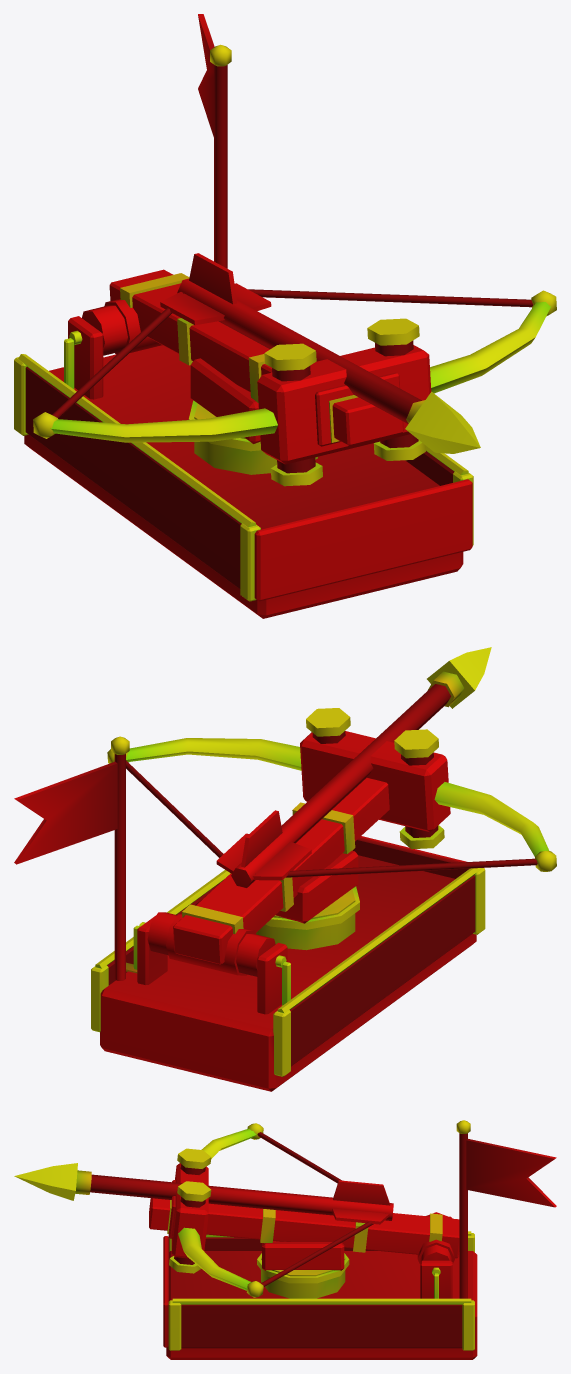
The model's file is Ballista_LOD1.glb.
3 views of the same model, one above another, from view 1: azimuth 30°, elevation 25°; view 2: azimuth 150°, elevation 25°; view 3: azimuth 270°, elevation 25° (orthographic). The views are drawn at different scales.
Parts seen in each view (by area): view 1: Ballista_LOD1; view 2: Ballista_LOD1; view 3: Ballista_LOD1.
Boxes of the visible parts, <box> form: Ballista_LOD1: <box>14,14,556,618</box>; Ballista_LOD1: <box>14,647,556,1091</box>; Ballista_LOD1: <box>14,1120,556,1359</box>.
Size of the model in its own units: 3.58 by 2.41 by 5.02.
